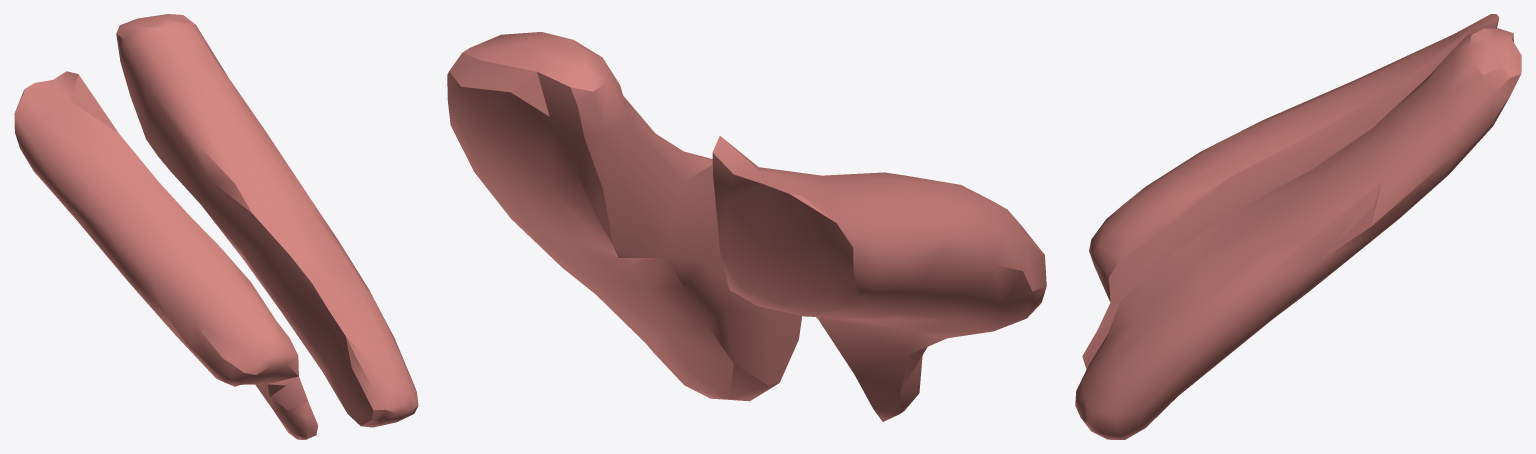
File: fma42599_mm1947m.glb
The picture shows the model from 3 angles, left to right: view 1: azimuth 30°, elevation 25°; view 2: azimuth 150°, elevation 25°; view 3: azimuth 270°, elevation 25°; orthographic projection. The views are drawn at different scales.
Parts seen in each view (by area): view 1: FMA42599_MM1947M; view 2: FMA42599_MM1947M; view 3: FMA42599_MM1947M.
Part boxes in pixels (bbox=[...]): FMA42599_MM1947M: bbox=[14, 14, 418, 439]; FMA42599_MM1947M: bbox=[447, 32, 1046, 421]; FMA42599_MM1947M: bbox=[1075, 14, 1521, 439].
Size of the model in its own units: 0.0114 by 0.0134 by 0.0152.
